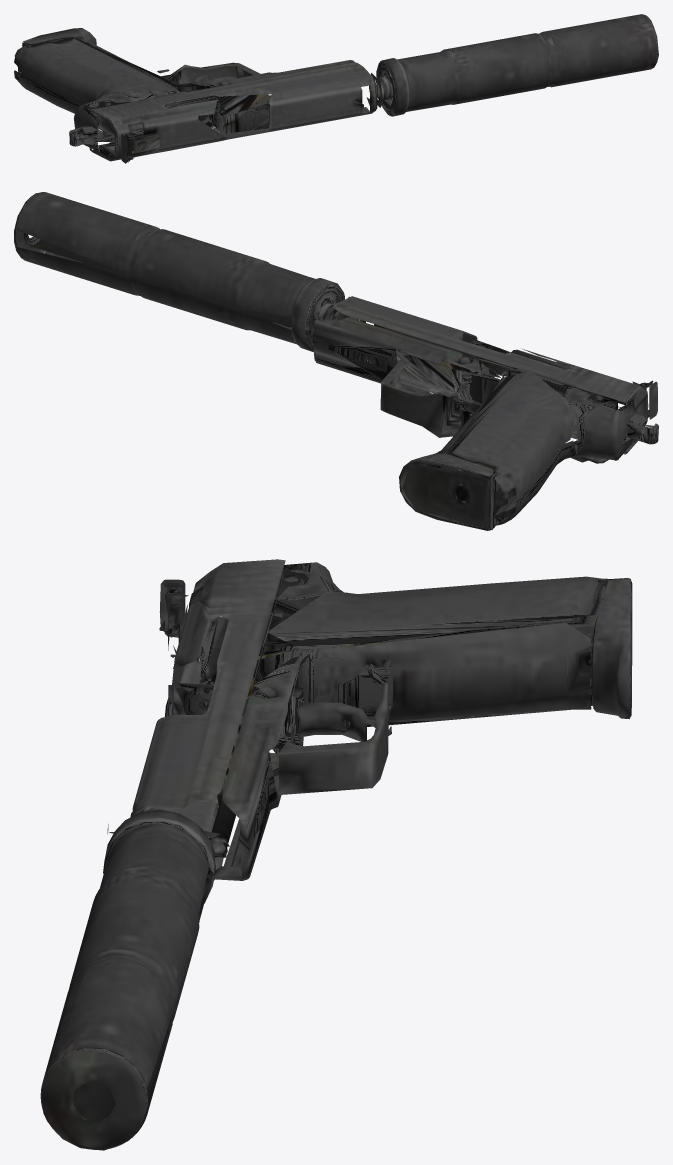
File: w_usp.glb
The picture shows the model from 3 angles, top to bottom: view 1: azimuth 30°, elevation 25°; view 2: azimuth 150°, elevation 25°; view 3: azimuth 270°, elevation 25°; orthographic projection. The views are drawn at different scales.
Parts seen in each view (by area): view 1: w_usp; view 2: w_usp; view 3: w_usp.
Boxes of the visible parts, x1,y1,x2,y2 form: w_usp: (14,14,658,163); w_usp: (14,192,658,530); w_usp: (40,559,632,1150).
Size of the model in its own units: 0.5537 by 0.0583 by 0.2644.
Materials: 1 (1 with a texture image).
